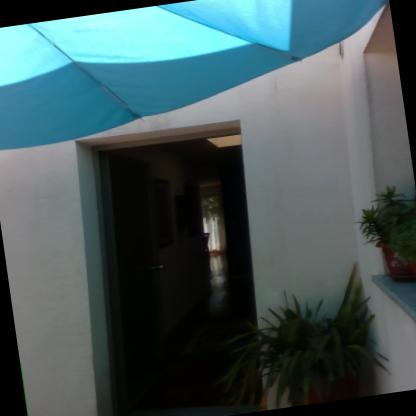open: (50, 111, 292, 415)
